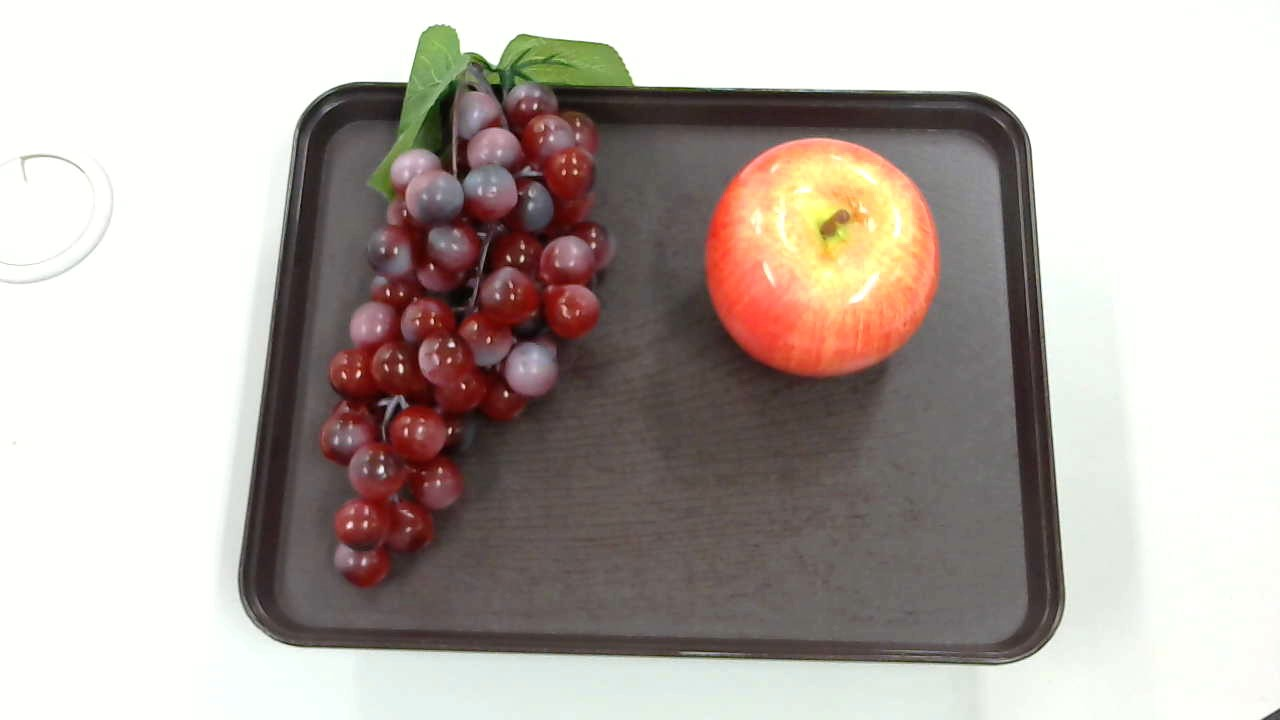grape: (313, 19, 639, 593)
red apple: (698, 135, 940, 378)
